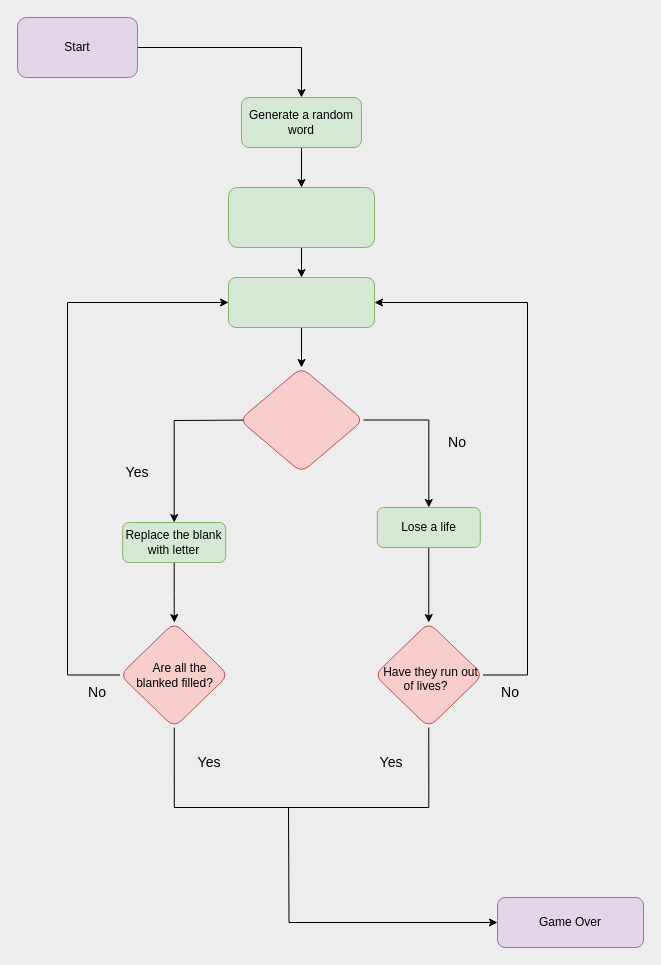
Some shapes in this 661 by 965 pixel diagram are drawn without their labels. Each missing label, with the centre of its shape:
"Ask User to Guess a letter" goes at point 301,302.
"Generate a many blanks as letters in word" goes at point 301,217.
"Is the guessed letter in word?" goes at point 301,419.
